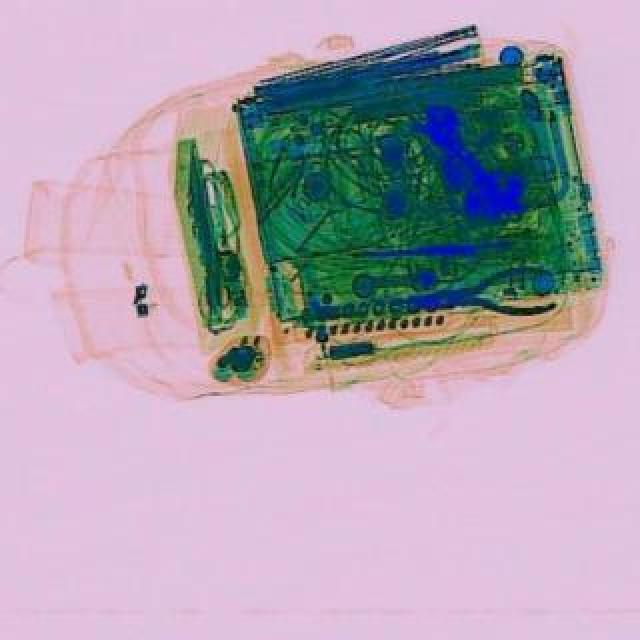wrench: (412, 260, 556, 324)
